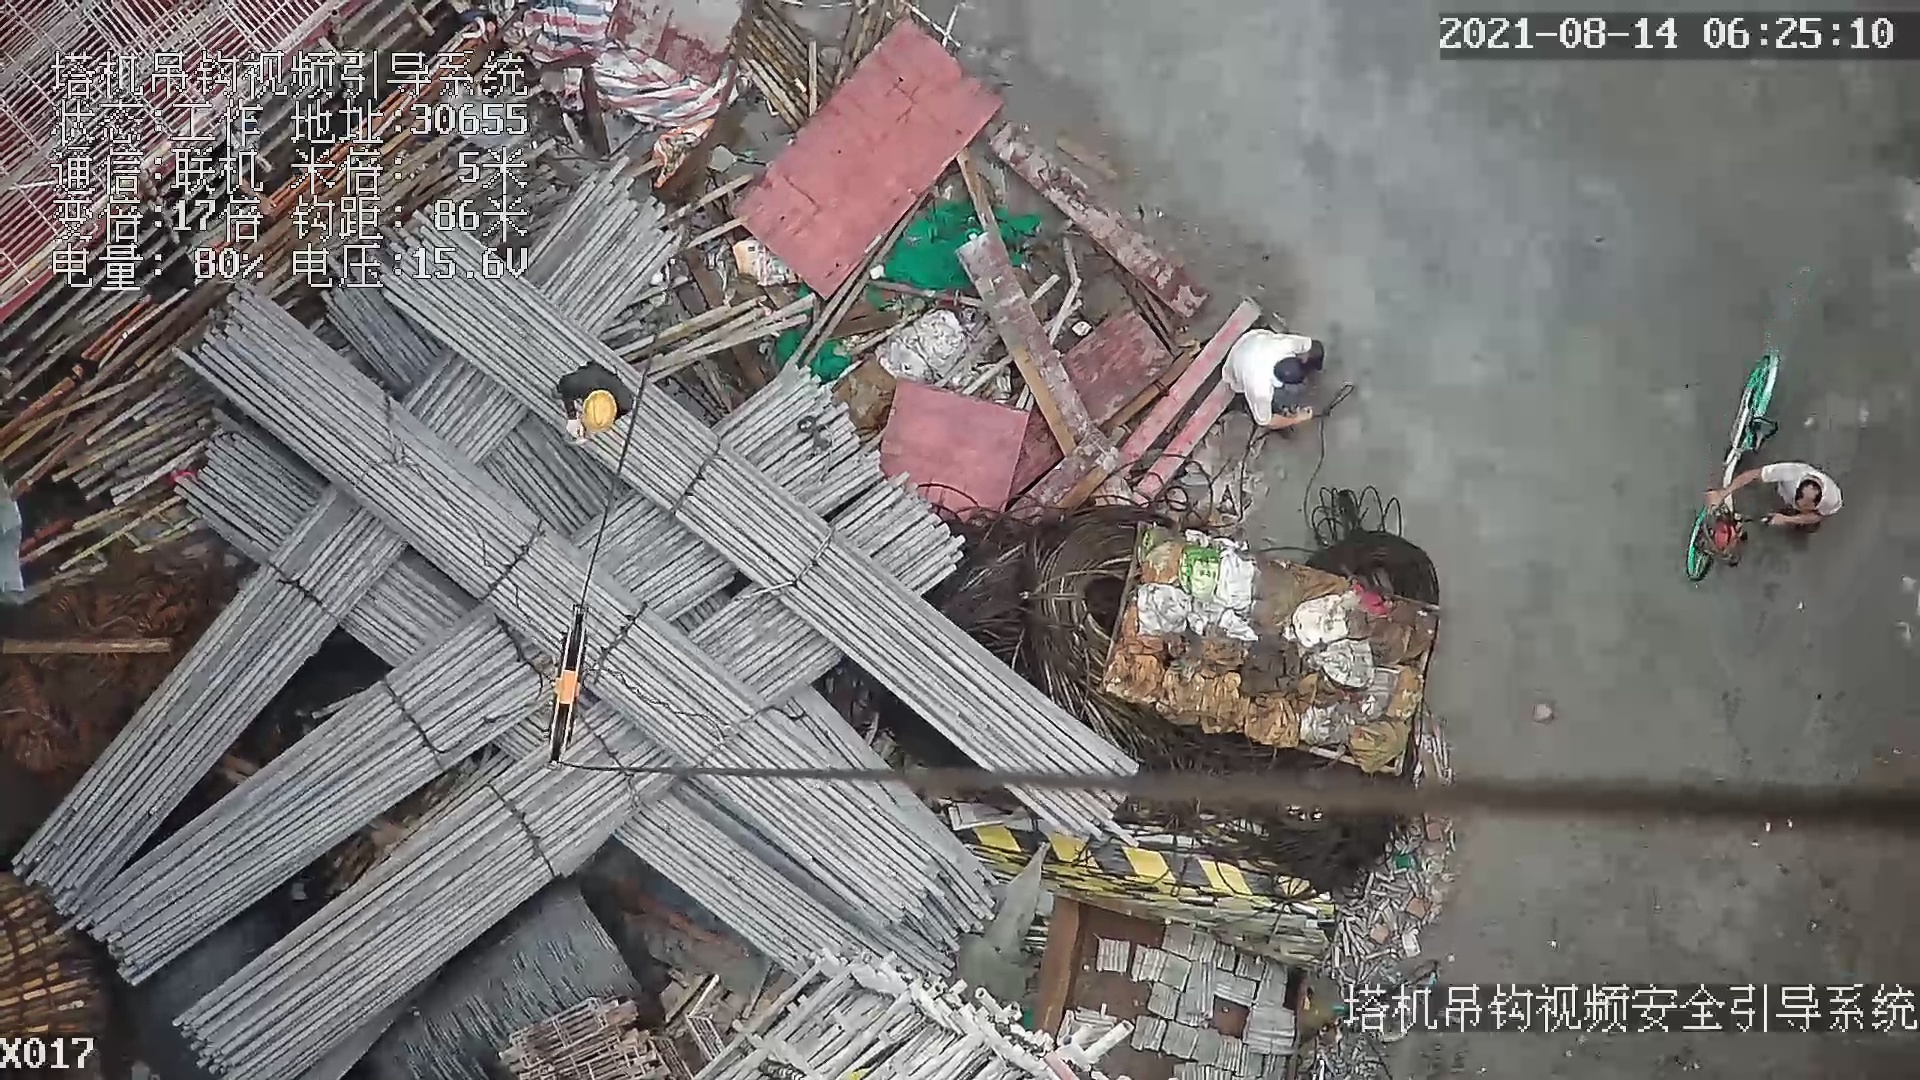helmet: (582, 389, 617, 435)
hook: (533, 604, 600, 776)
person: (1196, 317, 1344, 447), (1701, 458, 1854, 537), (558, 364, 644, 449)
